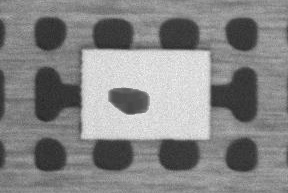DIE_INK: (106, 86, 151, 116)
